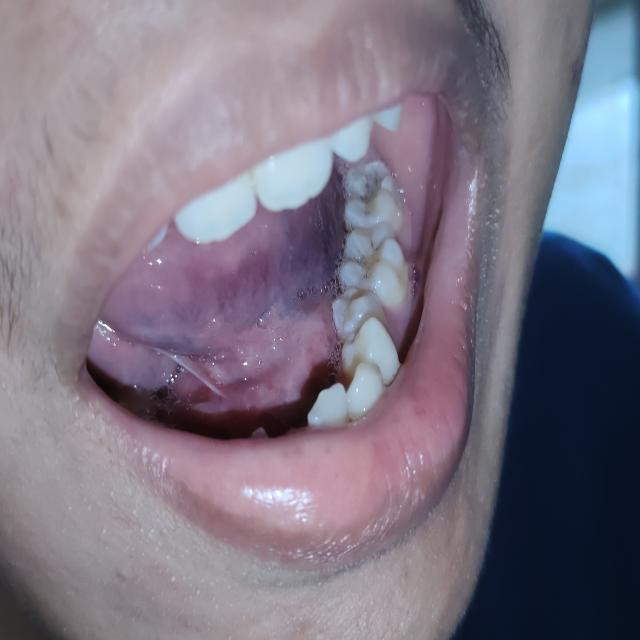caries: (338, 222, 406, 309), (344, 161, 403, 231)
